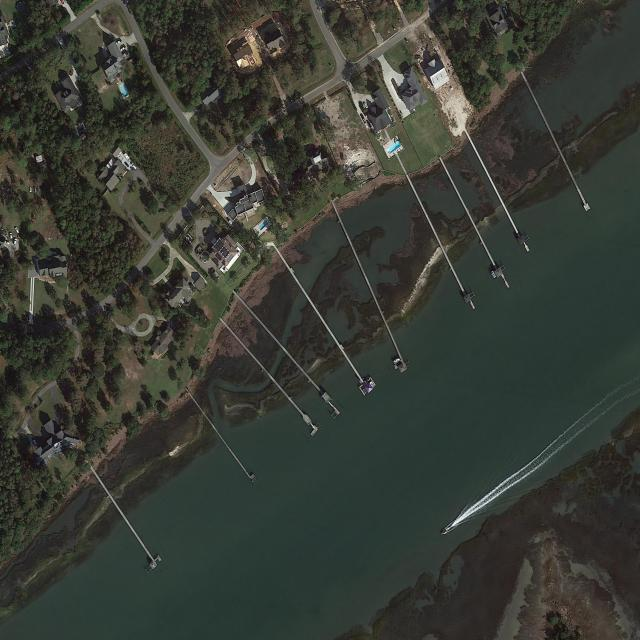ship: (369, 380, 375, 389), (393, 358, 400, 365), (491, 270, 496, 279)
small-vehicle: (124, 153, 131, 162), (359, 113, 365, 122), (366, 119, 372, 128), (131, 162, 137, 170), (115, 39, 122, 45), (502, 7, 508, 14), (120, 46, 126, 52), (14, 227, 19, 234), (32, 438, 37, 445), (130, 167, 135, 173), (9, 232, 13, 239), (340, 153, 344, 160), (364, 102, 368, 109), (125, 161, 129, 167), (13, 239, 17, 245), (5, 241, 10, 245), (34, 187, 37, 193), (30, 186, 32, 192)
